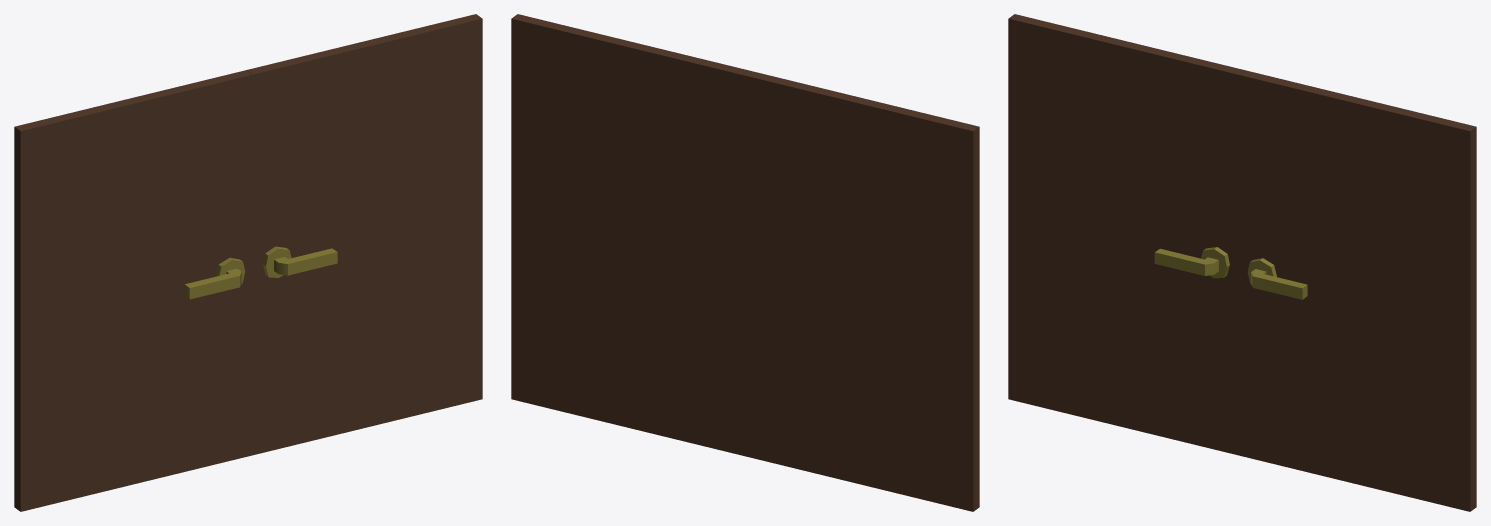
The model's file is Double_Door_with_Texture.fbx.
3 views of the same model, side by side, from view 1: azimuth 30°, elevation 25°; view 2: azimuth 150°, elevation 25°; view 3: azimuth 330°, elevation 25° (orthographic).
Visible parts, largest first — view 1: Door2; view 2: Door2; view 3: Door2.
Part boxes in pixels (x1,y1,x2,y2): Door2: [14, 14, 482, 511]; Door2: [511, 14, 979, 511]; Door2: [1008, 14, 1476, 511].
Bounding box in the file's own units: 143 × 113 × 9.5.
